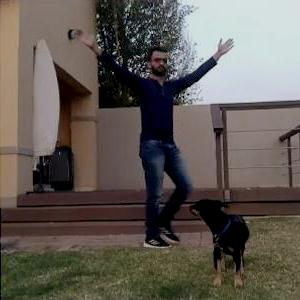takeoff: (72, 26, 243, 258)
